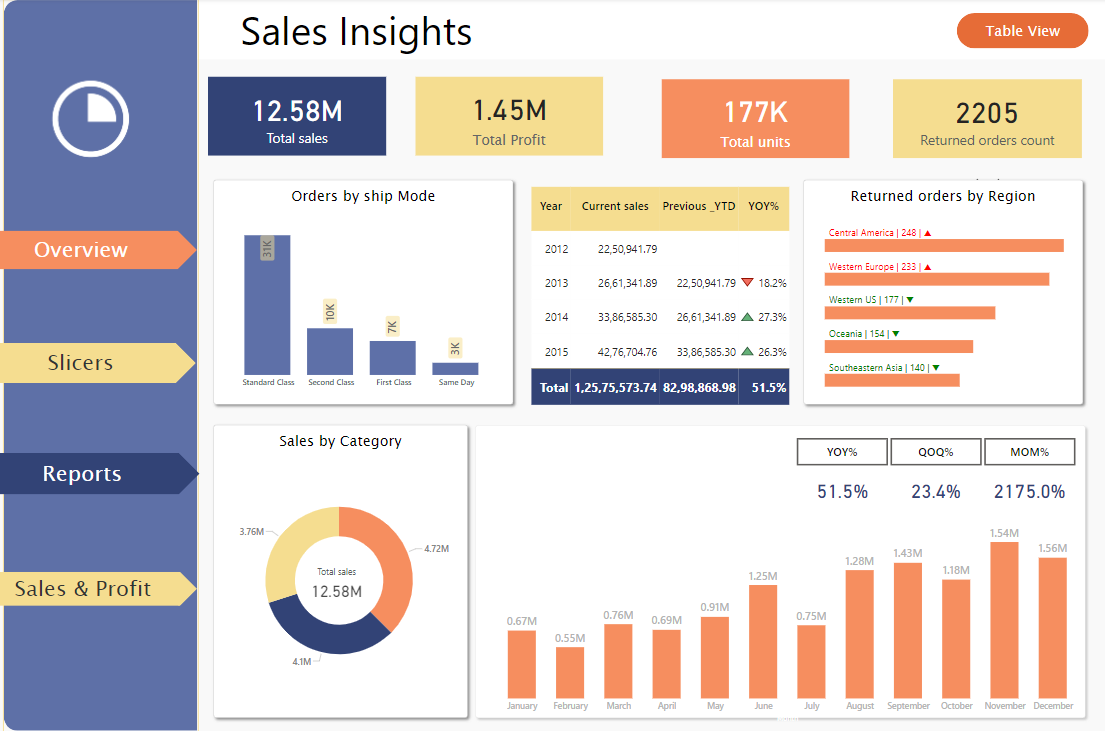

The page's visual inventory and layout, read from the dashboard file:
{"tool":"powerbi","page":{"name":"Dash Board","canvas":[2100,1370],"ordinal":0},"visuals":[{"type":"group","id":"g1","title":"Group 3","box":[2.4,2.3,401.9,1368.9],"z":0,"group":"g6"},{"type":"shape","box":[36.9,2.3,365.3,1368.9],"z":0,"group":"g1"},{"type":"shape","box":[420,330,580,440],"z":0,"group":"g2"},{"type":"shape","box":[1522.5,330,542.2,440],"z":0,"group":"g4"},{"type":"shape","box":[909.5,790,1157.7,564.6],"z":0,"group":"g5"},{"type":"pageNavigator","box":[1255,846.9,234.9,249.1],"z":0},{"type":"donutChart","title":"Sales by Category","fields":{"Y":["Orders.Total sales"],"Category":["Orders.Category"]},"box":[437.5,875,457.5,425],"z":0,"group":"g3"},{"type":"image","box":[70.4,79.6,259.1,295.5],"z":1000,"group":"g6"},{"type":"columnChart","title":"Orders by Ship Mode","fields":{"Category":["Orders.Ship Mode"],"Y":["CountNonNull(Orders.Order ID)"]},"box":[437.5,395,545,357.5],"z":1000,"group":"g2"},{"type":"clusteredBarChart","title":"Returned orders by Region","fields":{"Category":["Orders.Region"],"Y":["Orders.Lable placeholder","CountNonNull(Orders.Returned orders)"]},"box":[1545.2,413,504.4,337.8],"z":1000,"group":"g4"},{"type":"shape","box":[2.4,433.5,397.7,72.7],"z":1000,"group":"g1"},{"type":"image","box":[1747.2,547.7,175,175],"z":1000},{"type":"clusteredColumnChart","fields":{"Y":["Orders.Current MTD"],"Category":["Orders.Order Date.Variation.Date Hierarchy.Month"]},"box":[915.5,887,1149.6,471.1],"z":1000,"group":"g5"},{"type":"cardVisual","fields":{"Data":["Orders.Total sales"]},"box":[538.7,1037.5,247.5,107.5],"z":1000,"group":"g3"},{"type":"group","id":"g2","title":"Group 7","box":[420,330,580,440],"z":2000},{"type":"shape","box":[4.7,644.9,393.2,75],"z":2000,"group":"g1"},{"type":"image","box":[1847.5,332.5,60,62.5],"z":3000},{"type":"shape","box":[4.3,849.4,400,77.3],"z":3000,"group":"g1"},{"type":"shape","box":[420,787.5,495,567.5],"z":4000},{"type":"shape","box":[3.9,1072.1,395.5,63.6],"z":4000,"group":"g1"},{"type":"shape","box":[381.1,0,1719.4,114.8],"z":5000},{"type":"card","fields":{"Values":["CountNonNull(Orders.Returned orders)"]},"box":[1700,152.5,352.5,147.5],"z":6000},{"type":"card","fields":{"Values":["Orders.Total units"]},"box":[1267.5,152.5,350,147.5],"z":7000},{"type":"card","fields":{"Values":["Orders.total profit"]},"box":[807.5,147.5,350,147.5],"z":8000},{"type":"card","title":"Total sales","fields":{"Values":["Orders.Total sales"]},"box":[420,147.5,332.5,147.5],"z":9000},{"type":"group","id":"g3","title":"donut chart","box":[437.5,875,457.5,425],"z":10000},{"type":"group","id":"g4","title":"Group 1","box":[1522.5,330,542.5,440],"z":11000},{"type":"group","id":"g5","title":"Group 1","box":[909.5,790,1157.7,568.1],"z":12000},{"type":"tableEx","fields":{"Values":["Orders.Order Date.Variation.Date Hierarchy.Year","Orders.Total sales","Orders.Previous sales","Orders.Difference"]},"box":[1017.9,347.9,502,422.6],"z":13000},{"type":"group","id":"g6","title":"Menu","box":[2.4,2.3,401.9,1368.9],"z":19000},{"type":"actionButton","box":[1819.6,28.5,246.7,66.4],"z":21000},{"type":"cardVisual","fields":{"Data":["Orders.MOM %"]},"box":[1870.1,875.5,170.4,79.4],"z":22000},{"type":"actionButton","title":"Total units","box":[1870.1,821.8,170.4,51.4],"z":23000},{"type":"cardVisual","fields":{"Data":["Orders.QOQ %"]},"box":[1695.2,876.2,170.4,79.4],"z":24000},{"type":"actionButton","title":"Total units","box":[1695.2,822.5,170.4,51.4],"z":25000},{"type":"cardVisual","fields":{"Data":["Orders.YOY%"]},"box":[1519.6,876.2,170.4,79.4],"z":26000},{"type":"actionButton","title":"Total units","box":[1519.6,822.5,170.4,51.4],"z":27000}]}

Visuals, with their boxes in screenshot pixels (x1, y1, x2, y2), scaled from the page's 2100x1370 canvas onto the 1105x731 screenshot:
"Group 3" group: l=1, t=1, r=213, b=730
shape: l=19, t=1, r=212, b=730
shape: l=221, t=176, r=526, b=411
shape: l=801, t=176, r=1086, b=411
shape: l=479, t=422, r=1088, b=723
pageNavigator: l=660, t=452, r=784, b=585
"Sales by Category" donutChart: l=230, t=467, r=471, b=694
image: l=37, t=42, r=173, b=200
"Orders by Ship Mode" columnChart: l=230, t=211, r=517, b=402
"Returned orders by Region" clusteredBarChart: l=813, t=220, r=1078, b=401
shape: l=1, t=231, r=211, b=270
image: l=919, t=292, r=1011, b=386
clusteredColumnChart - Orders.Current MTD x Orders.Order Date.Variation.Date Hierarchy.Month: l=482, t=473, r=1087, b=725
cardVisual - Orders.Total sales: l=283, t=554, r=414, b=611
"Group 7" group: l=221, t=176, r=526, b=411
shape: l=2, t=344, r=209, b=384
image: l=972, t=177, r=1004, b=211
shape: l=2, t=453, r=213, b=494
shape: l=221, t=420, r=481, b=723
shape: l=2, t=572, r=210, b=606
shape: l=201, t=0, r=1104, b=61
card - CountNonNull(Orders.Returned orders): l=895, t=81, r=1080, b=160
card - Orders.Total units: l=667, t=81, r=851, b=160
card - Orders.total profit: l=425, t=79, r=609, b=157
"Total sales" card: l=221, t=79, r=396, b=157
"donut chart" group: l=230, t=467, r=471, b=694
"Group 1" group: l=801, t=176, r=1087, b=411
"Group 1" group: l=479, t=422, r=1088, b=725
tableEx - Orders.Order Date.Variation.Date Hierarchy.Year x Orders.Total sales: l=536, t=186, r=800, b=411
"Menu" group: l=1, t=1, r=213, b=730
actionButton: l=957, t=15, r=1087, b=51
cardVisual - Orders.MOM %: l=984, t=467, r=1074, b=510
"Total units" actionButton: l=984, t=438, r=1074, b=466
cardVisual - Orders.QOQ %: l=892, t=468, r=982, b=510
"Total units" actionButton: l=892, t=439, r=982, b=466
cardVisual - Orders.YOY%: l=800, t=468, r=889, b=510
"Total units" actionButton: l=800, t=439, r=889, b=466
